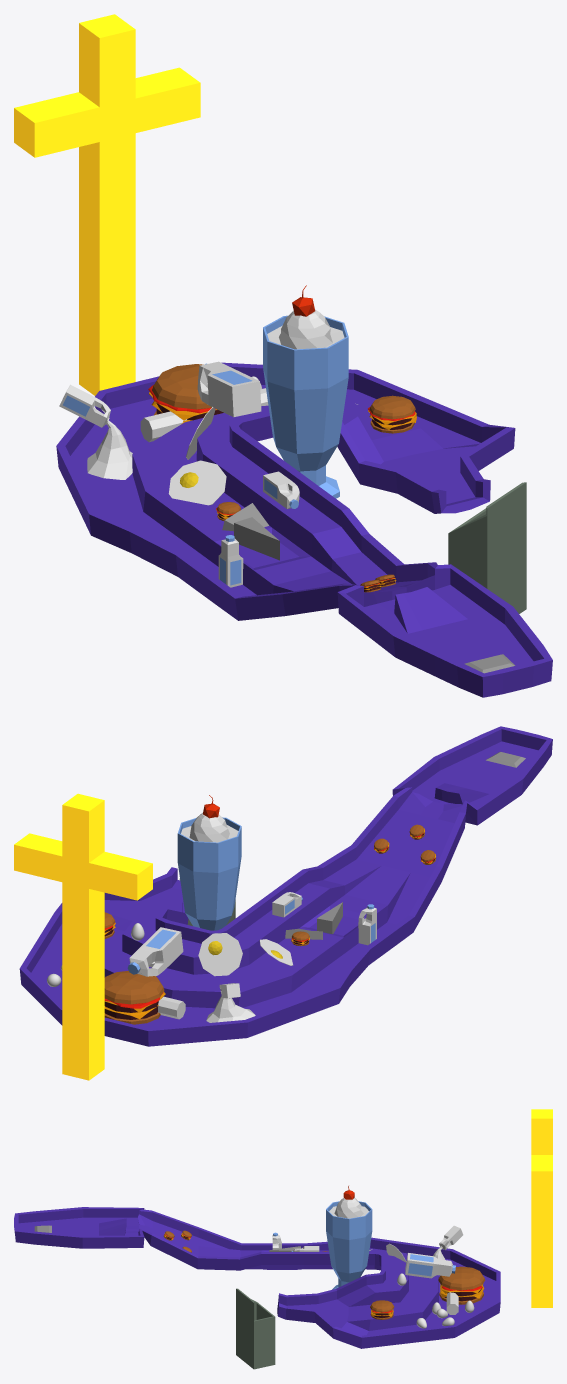
File: jackTrack.fbx
The picture shows the model from 3 angles, top to bottom: view 1: azimuth 30°, elevation 25°; view 2: azimuth 150°, elevation 25°; view 3: azimuth 270°, elevation 25°; orthographic projection. The views are drawn at different scales.
Parts seen in each view (by area): view 1: JackTrack, Cross, Shake.001, Trashbin, Milk.004, DoubleBurgerObby.005, SunnyEgg.001, Spill, DoubleBurgerObby.006, Wedge, Milk.003, Milk.002 (+2 smaller); view 2: JackTrack, Cross, Shake.001, DoubleBurgerObby.005, Milk.004, SunnyEgg.002, Spill, Milk.002, Milk.001, Wedge, BurgerHole, SunnyEgg.001; view 3: JackTrack, Cross, Shake.001, Trashbin, DoubleBurgerObby.005, Milk.004, DoubleBurgerObby.006.
Part boxes in pixels (bbox=[...]): JackTrack: bbox=[56, 362, 552, 697]; Cross: bbox=[14, 14, 200, 395]; Shake.001: bbox=[263, 285, 348, 498]; Trashbin: bbox=[448, 482, 526, 613]; Milk.004: bbox=[197, 361, 261, 417]; DoubleBurgerObby.005: bbox=[148, 364, 223, 424]; SunnyEgg.001: bbox=[168, 460, 226, 505]; Spill: bbox=[87, 420, 132, 479]; DoubleBurgerObby.006: bbox=[368, 395, 416, 433]; Wedge: bbox=[234, 517, 279, 560]; Milk.003: bbox=[59, 385, 110, 427]; Milk.002: bbox=[218, 535, 243, 587]; JackTrack: bbox=[19, 726, 552, 1046]; Cross: bbox=[14, 793, 152, 1080]; Shake.001: bbox=[177, 795, 241, 930]; DoubleBurgerObby.005: bbox=[104, 971, 165, 1024]; Milk.004: bbox=[127, 927, 183, 976]; SunnyEgg.002: bbox=[198, 933, 242, 976]; Spill: bbox=[206, 995, 255, 1022]; Milk.002: bbox=[358, 904, 376, 945]; Milk.001: bbox=[272, 892, 302, 917]; Wedge: bbox=[317, 902, 342, 934]; BurgerHole: bbox=[158, 996, 185, 1019]; SunnyEgg.001: bbox=[259, 939, 292, 965]; JackTrack: bbox=[14, 1207, 500, 1348]; Cross: bbox=[531, 1109, 552, 1307]; Shake.001: bbox=[326, 1186, 372, 1289]; Trashbin: bbox=[236, 1288, 275, 1369]; DoubleBurgerObby.005: bbox=[438, 1266, 485, 1304]; Milk.004: bbox=[405, 1253, 455, 1278]; DoubleBurgerObby.006: bbox=[370, 1300, 394, 1319].
Bounding box in the file's own units: 4990 × 5073 × 11339.
